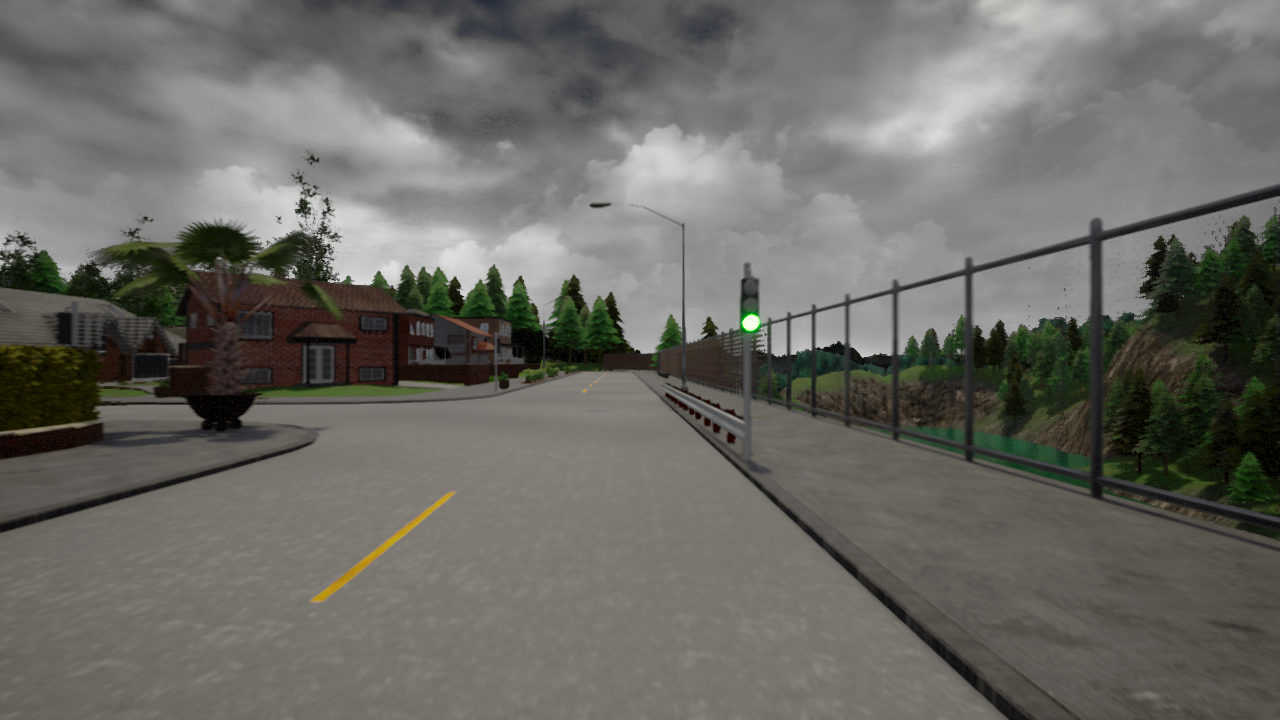green: (739, 275, 763, 333)
